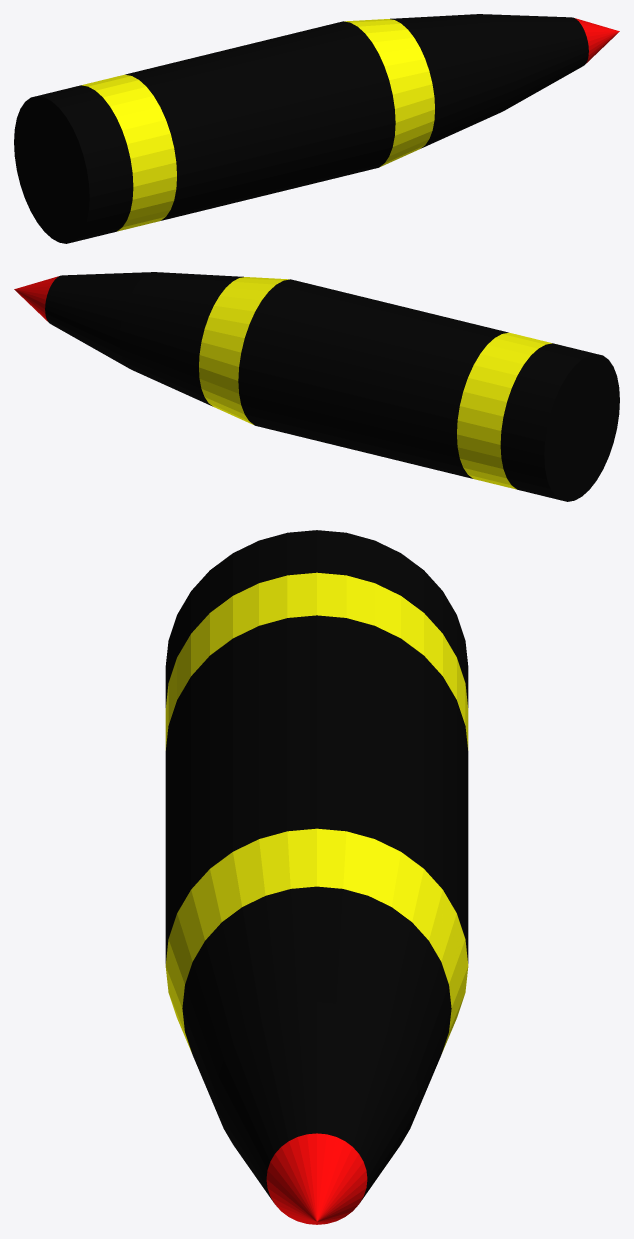
Rendered from Main_shell.fbx.
3 views of the same model, one above another, from view 1: azimuth 30°, elevation 25°; view 2: azimuth 150°, elevation 25°; view 3: azimuth 270°, elevation 25° (orthographic). The views are drawn at different scales.
Parts seen in each view (by area): view 1: Cone.002; view 2: Cone.002; view 3: Cone.002.
Boxes of the visible parts, <box> form: Cone.002: <box>14,14,619,243</box>; Cone.002: <box>14,272,619,501</box>; Cone.002: <box>165,530,468,1224</box>.
Bounding box in the file's own units: 130 × 30 × 30.
